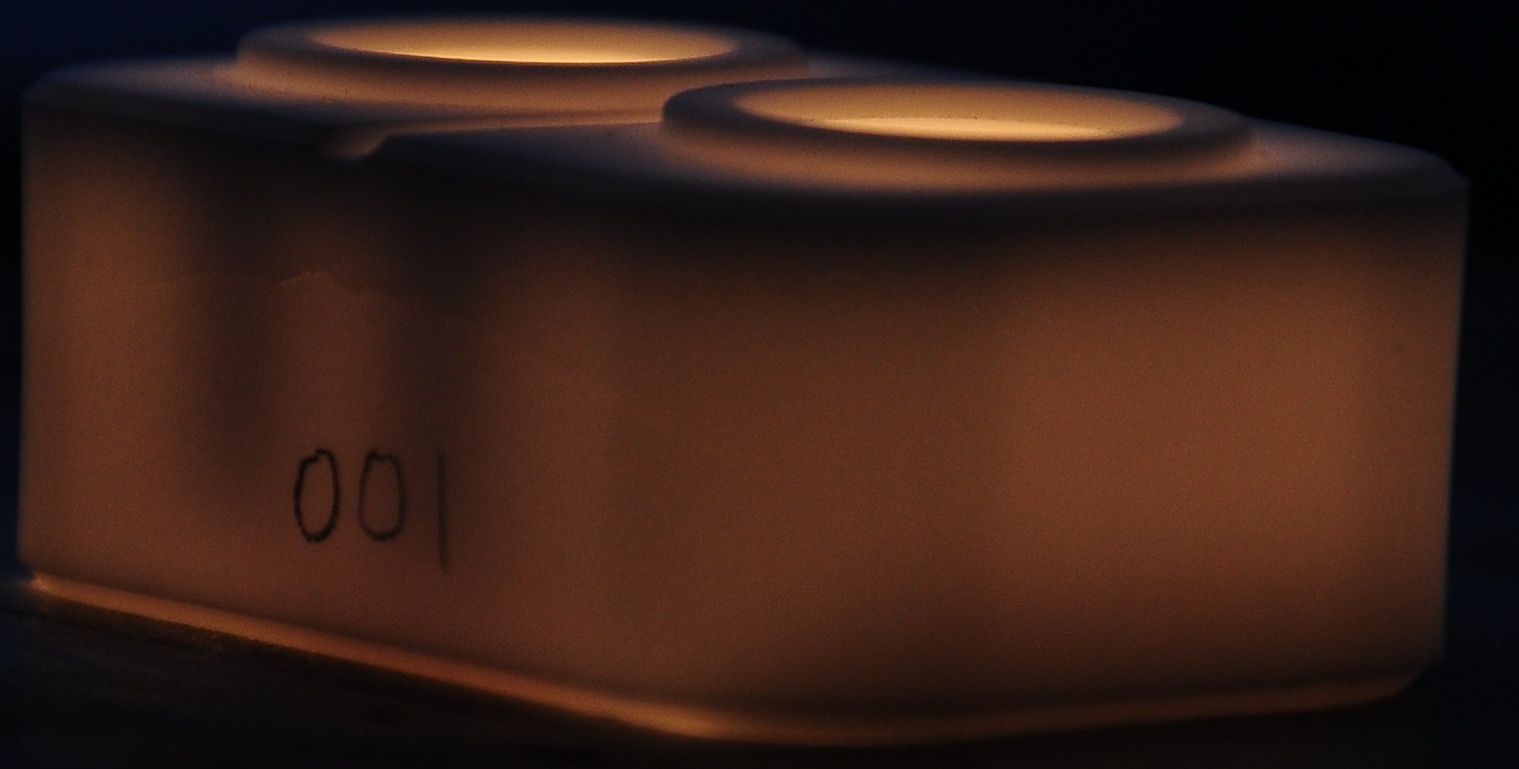flaw: (31, 250, 616, 367)
